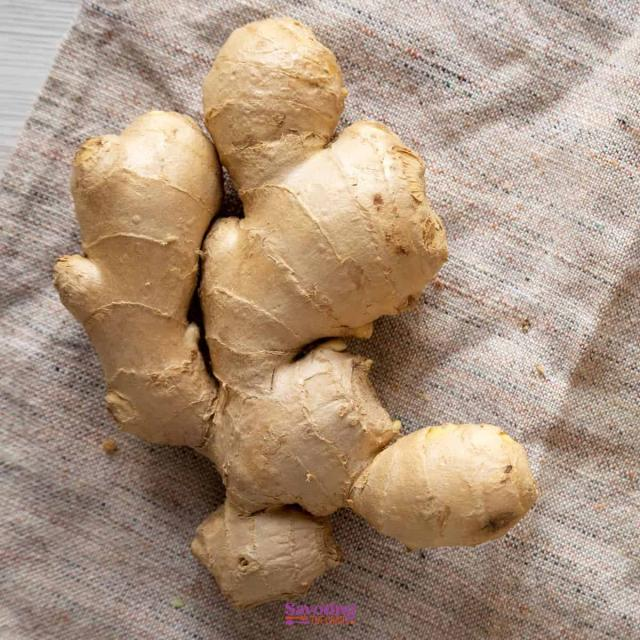ginger-root: (42, 14, 556, 610)
